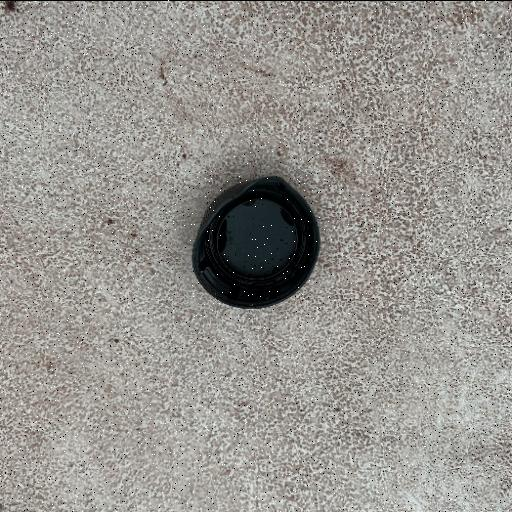Plastic: (188, 174, 322, 311)
